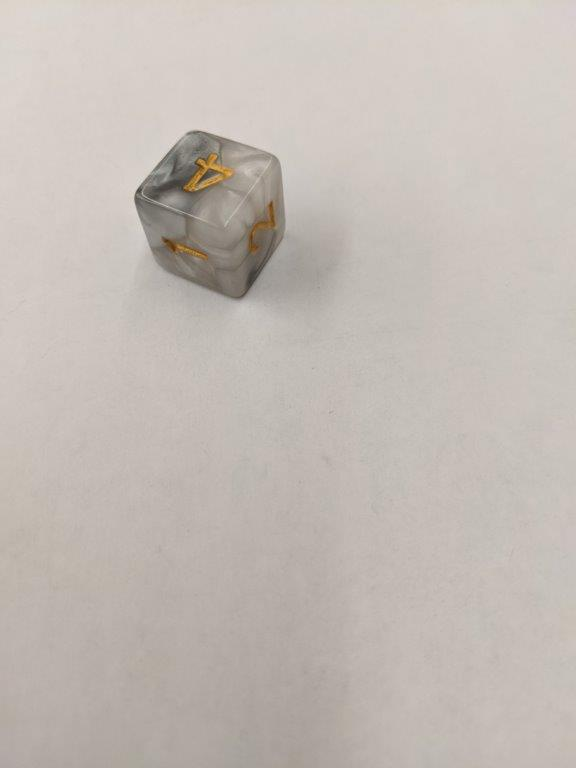d6-4: (135, 130, 288, 300)
